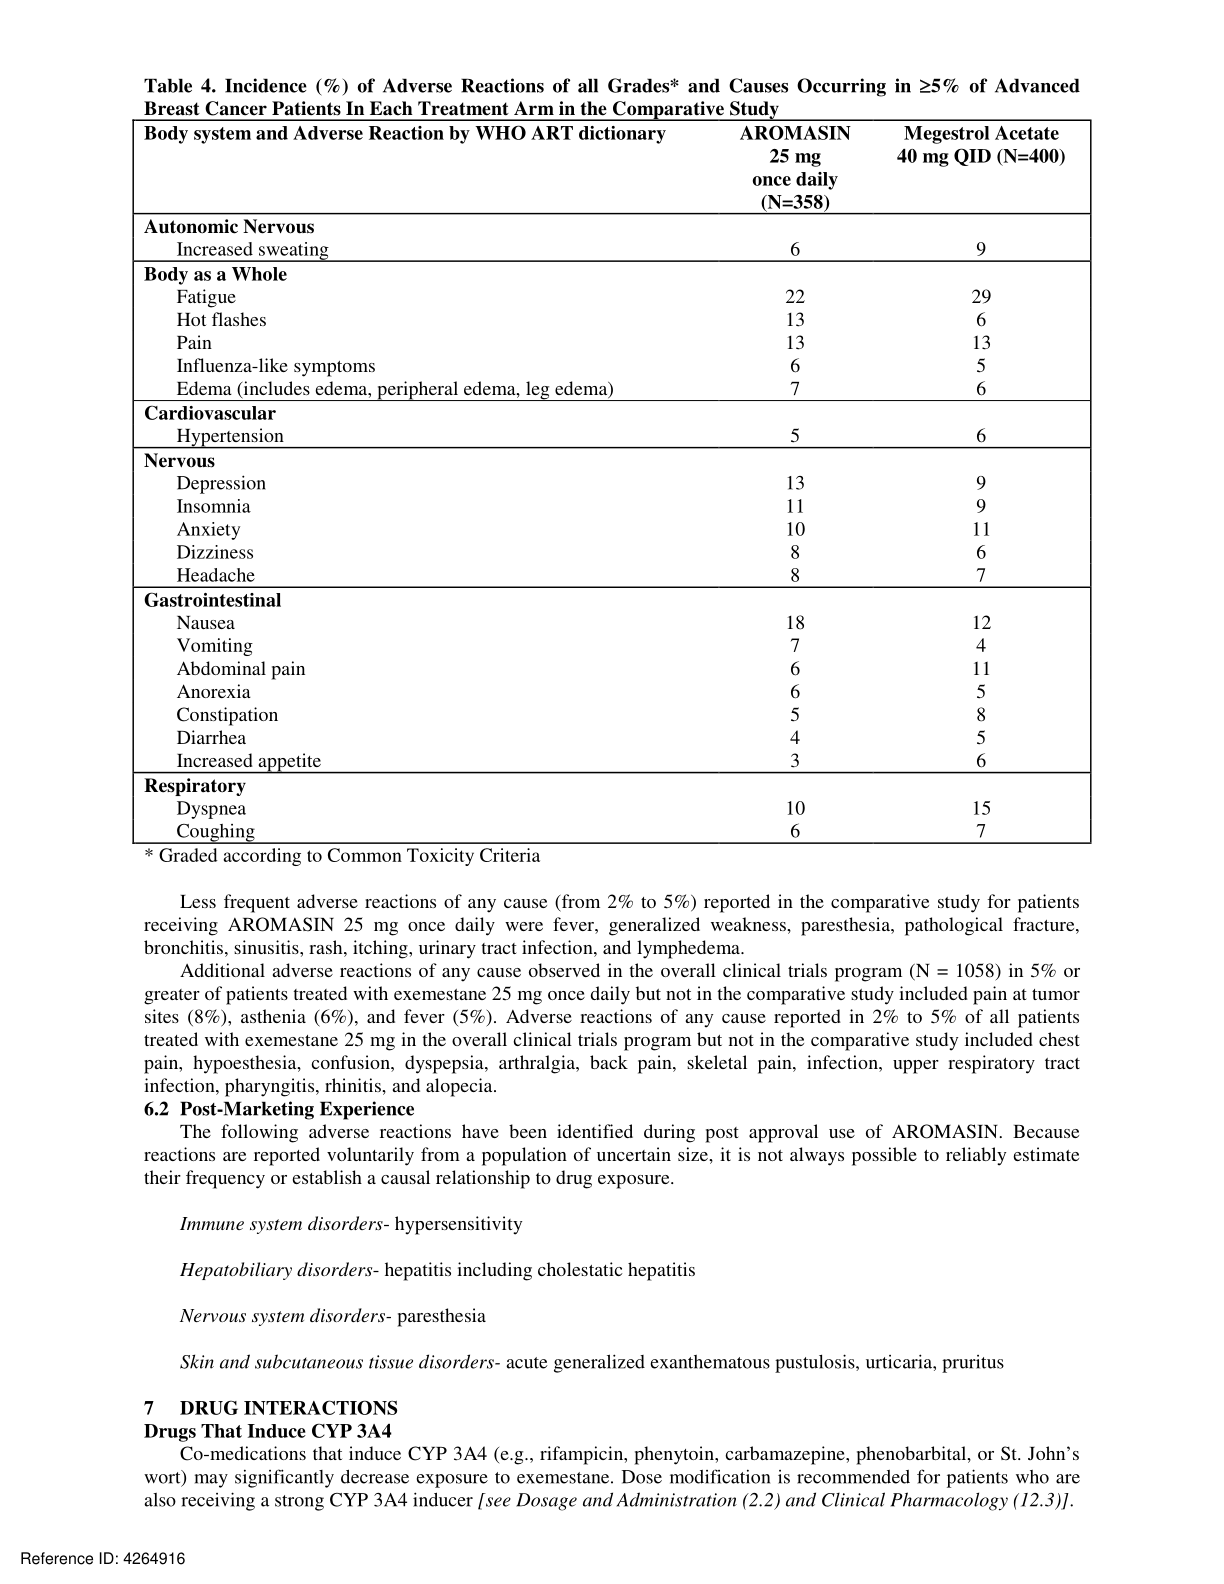partial_lined: (130, 120, 1093, 845)
